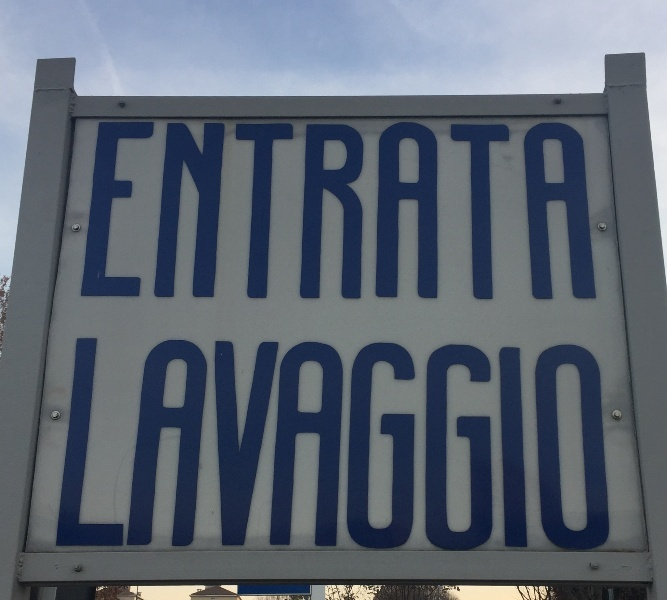text: (81, 338, 96, 553), (97, 338, 112, 553), (113, 338, 128, 553), (129, 338, 144, 553), (145, 338, 160, 553), (161, 338, 176, 553), (177, 338, 192, 553), (193, 338, 208, 553), (209, 338, 224, 553), (225, 338, 240, 553), (241, 338, 256, 553), (257, 338, 272, 553), (273, 338, 288, 553), (289, 338, 304, 553), (305, 338, 320, 553), (321, 338, 336, 553), (337, 338, 352, 553), (353, 338, 368, 553), (369, 338, 384, 553), (385, 338, 400, 553), (401, 338, 416, 553), (417, 338, 432, 553), (433, 338, 448, 553), (449, 338, 464, 553), (465, 338, 480, 553), (481, 338, 496, 553), (497, 338, 512, 553), (513, 338, 528, 553), (529, 338, 544, 553), (545, 338, 560, 553), (561, 338, 576, 553), (577, 338, 592, 553), (593, 338, 608, 553), (113, 120, 128, 301), (129, 120, 144, 301), (145, 120, 160, 301), (161, 120, 176, 301), (177, 120, 192, 301), (193, 120, 208, 301), (209, 120, 224, 301), (225, 120, 240, 301), (241, 120, 256, 301), (257, 120, 272, 301), (273, 120, 288, 301), (289, 120, 304, 301), (305, 120, 320, 301), (321, 120, 336, 301), (337, 120, 352, 301), (353, 120, 368, 301), (369, 120, 384, 301), (385, 120, 400, 301), (401, 120, 416, 301), (417, 120, 432, 301), (433, 120, 448, 301), (449, 120, 464, 301), (465, 120, 480, 301), (481, 120, 496, 301), (497, 120, 512, 301), (513, 120, 528, 301), (529, 120, 544, 301), (545, 120, 560, 301), (561, 120, 576, 301), (577, 120, 592, 301), (98, 120, 112, 301), (74, 338, 80, 553), (593, 120, 599, 301), (609, 338, 612, 553)
